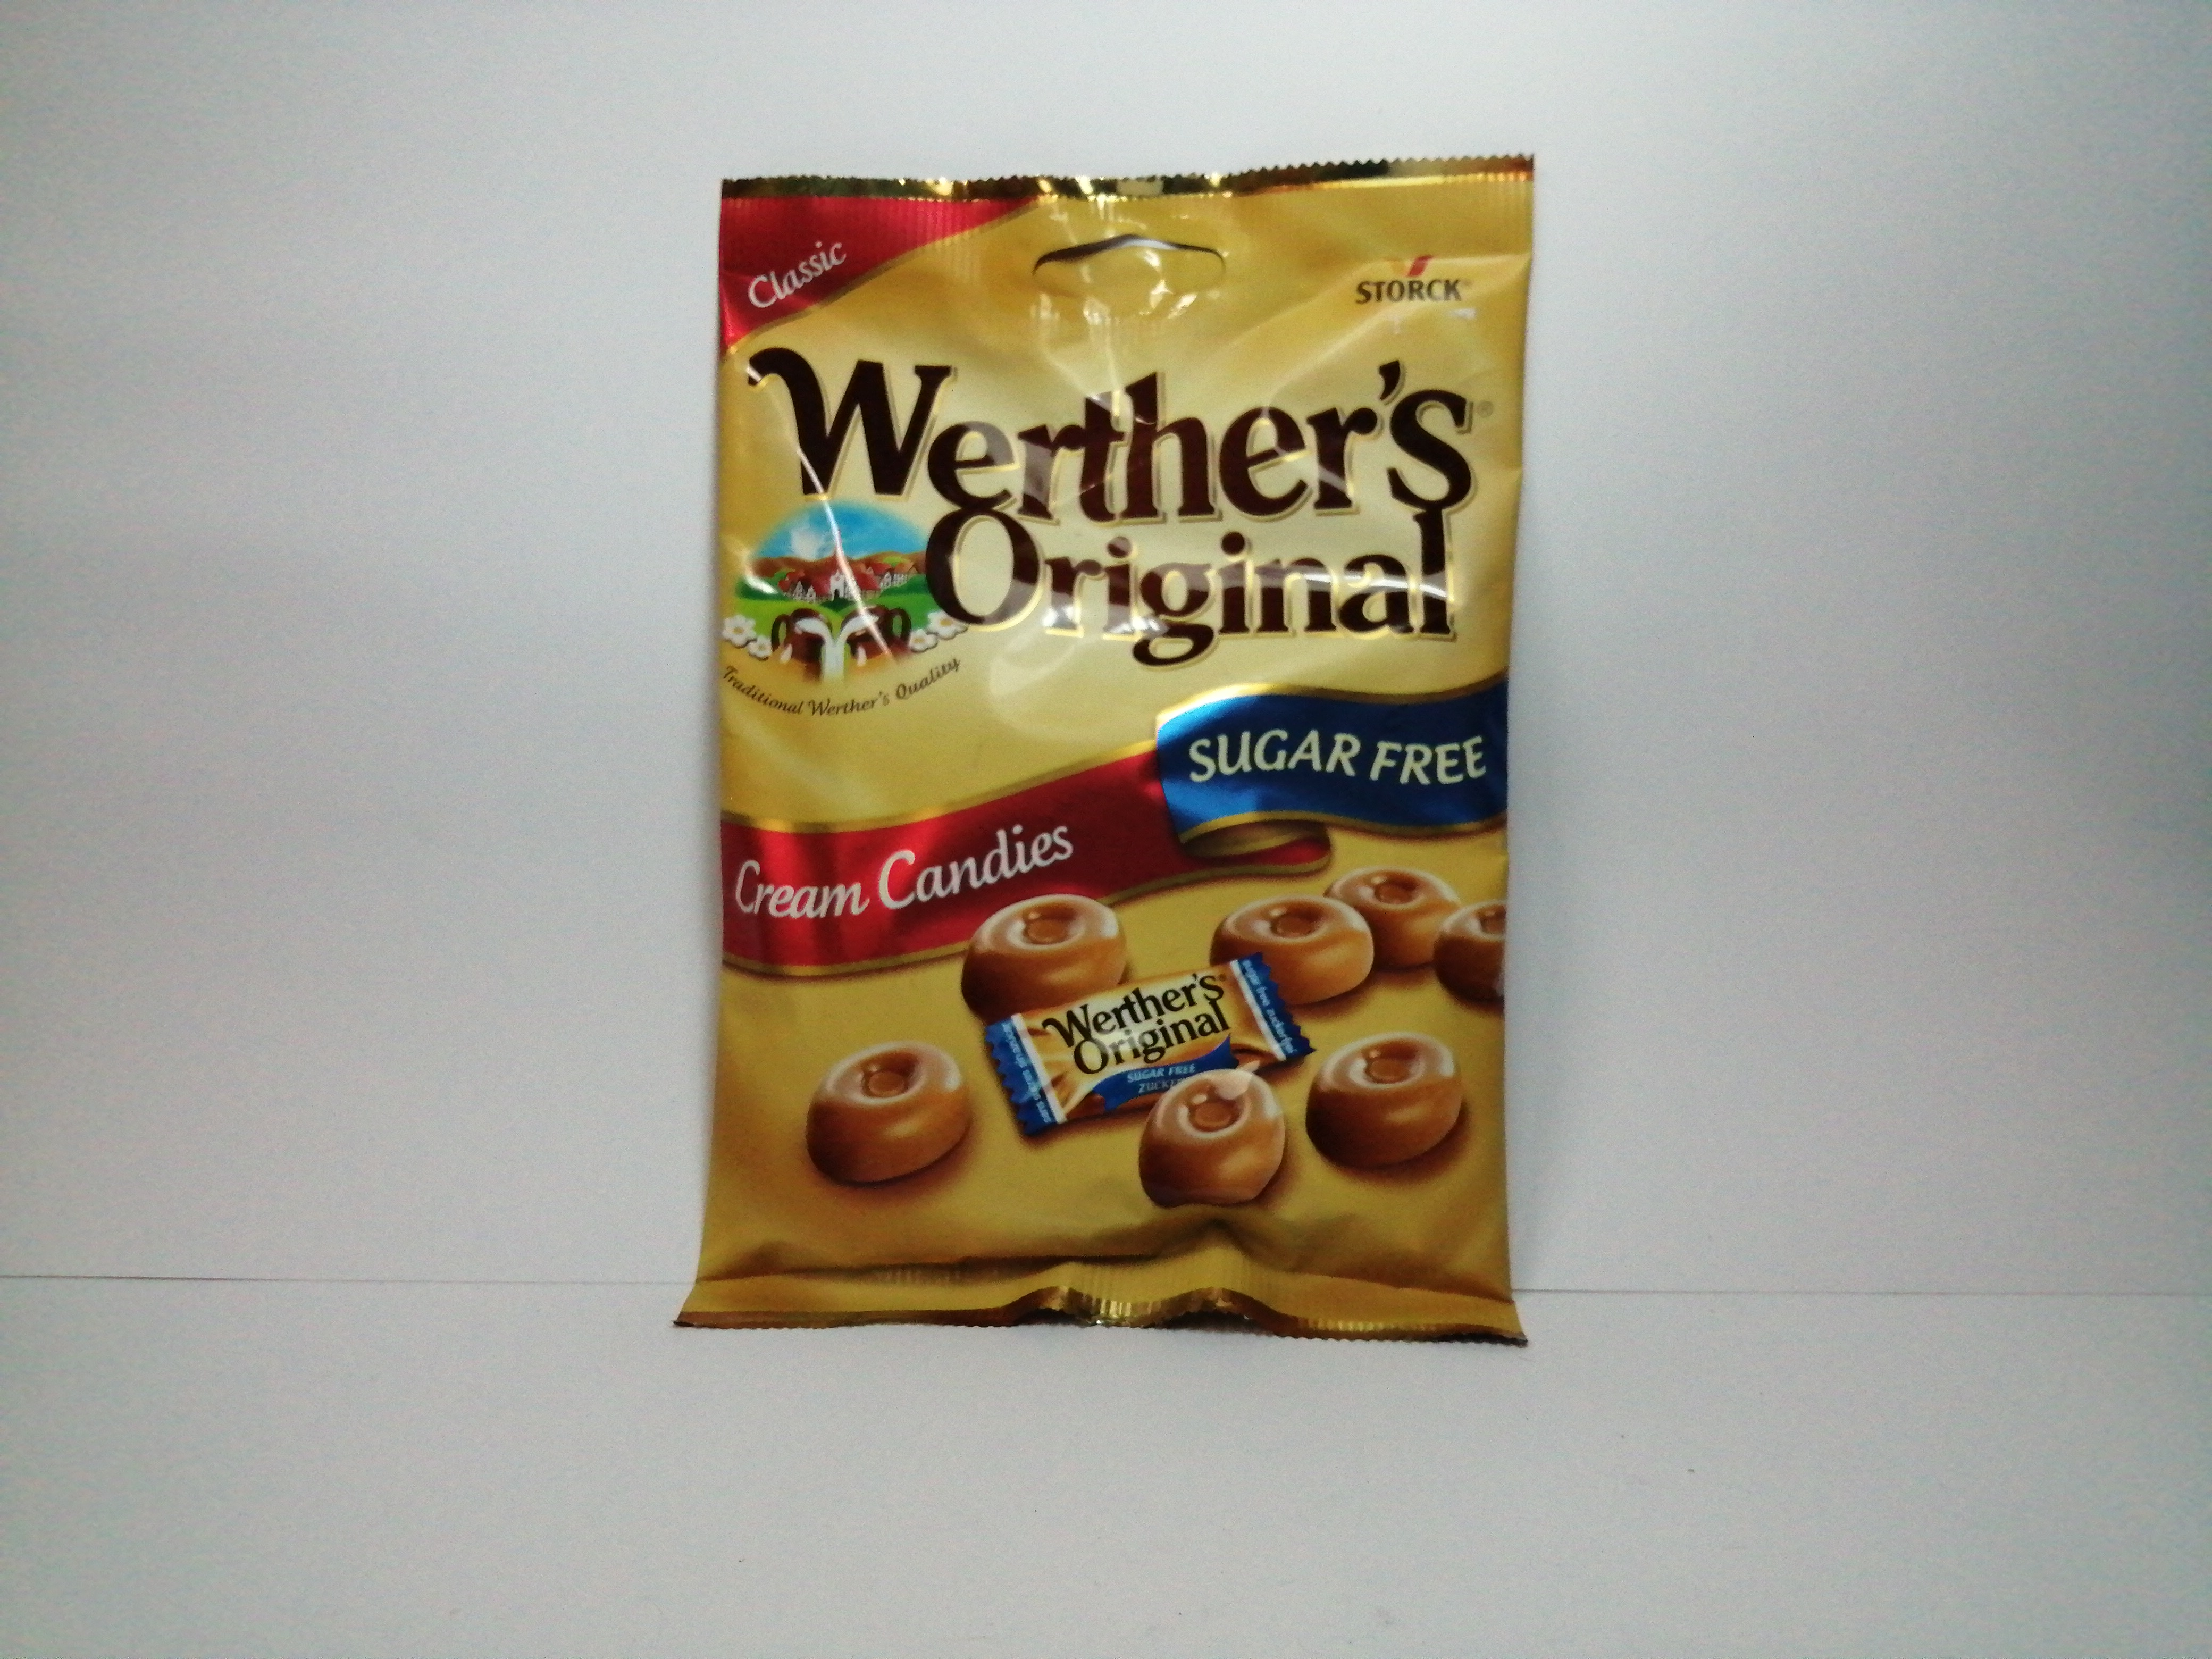dulces: (679, 152, 1526, 1351)
